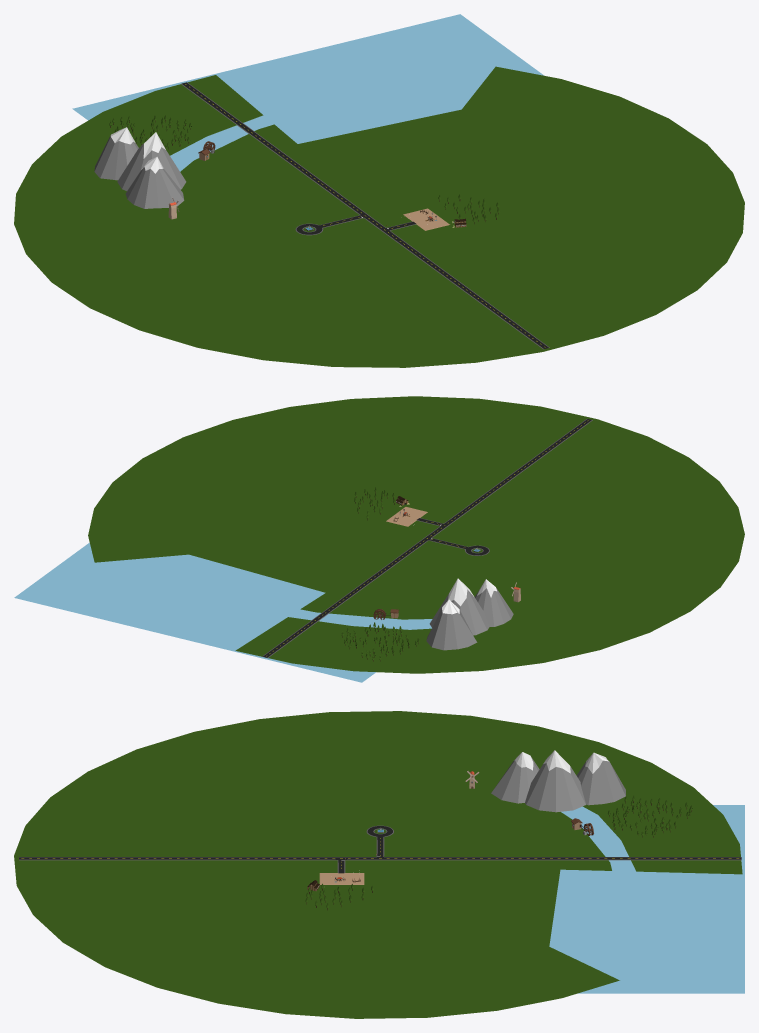
Rendered from farmers-little-helper-map.glb.
3 renders of one model, top to bottom at view 1: azimuth 30°, elevation 25°; view 2: azimuth 150°, elevation 25°; view 3: azimuth 270°, elevation 25°, orthographic. The views are drawn at different scales.
Visible parts, largest first — view 1: ground, water, mountain, road; view 2: ground, water, mountain, road; view 3: ground, water, mountain, road, ground-dirt.
Boxes of the visible parts, bbox=[...] form: ground: bbox=[14, 66, 744, 367]; water: bbox=[72, 14, 543, 171]; mountain: bbox=[94, 127, 186, 208]; road: bbox=[181, 82, 549, 349]; ground: bbox=[88, 396, 744, 673]; water: bbox=[14, 543, 432, 682]; mountain: bbox=[426, 578, 513, 650]; road: bbox=[262, 418, 592, 658]; ground: bbox=[14, 711, 742, 1018]; water: bbox=[549, 805, 744, 993]; mountain: bbox=[491, 750, 625, 812]; road: bbox=[19, 825, 741, 873]; ground-dirt: bbox=[319, 873, 364, 884].
Size of the model in its own units: 3075 by 256 by 3085.
3 materials, 3 textured.
